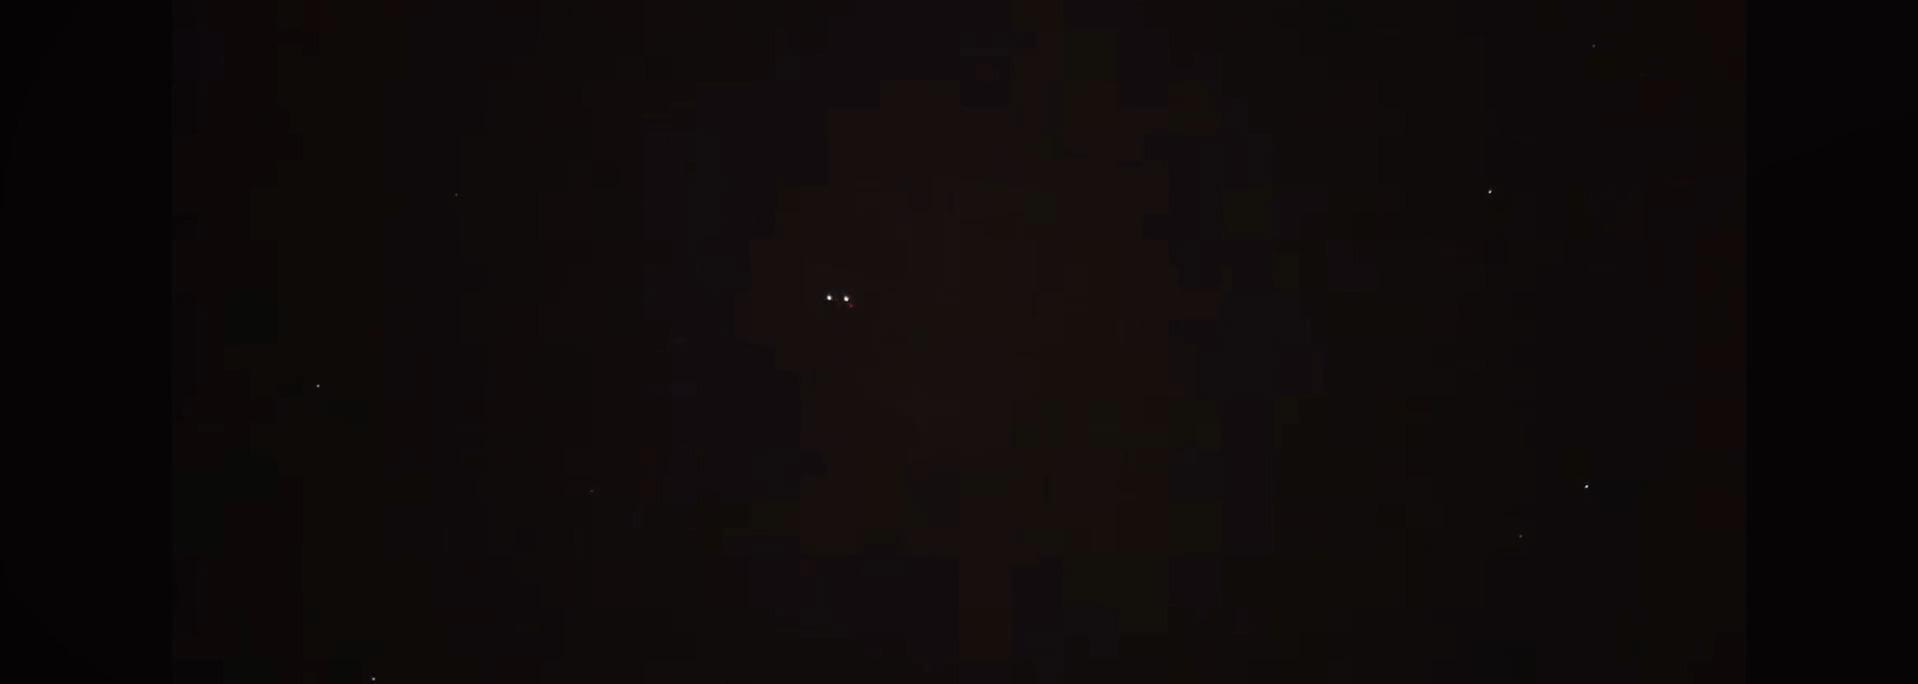Plane: (799, 281, 888, 321)
